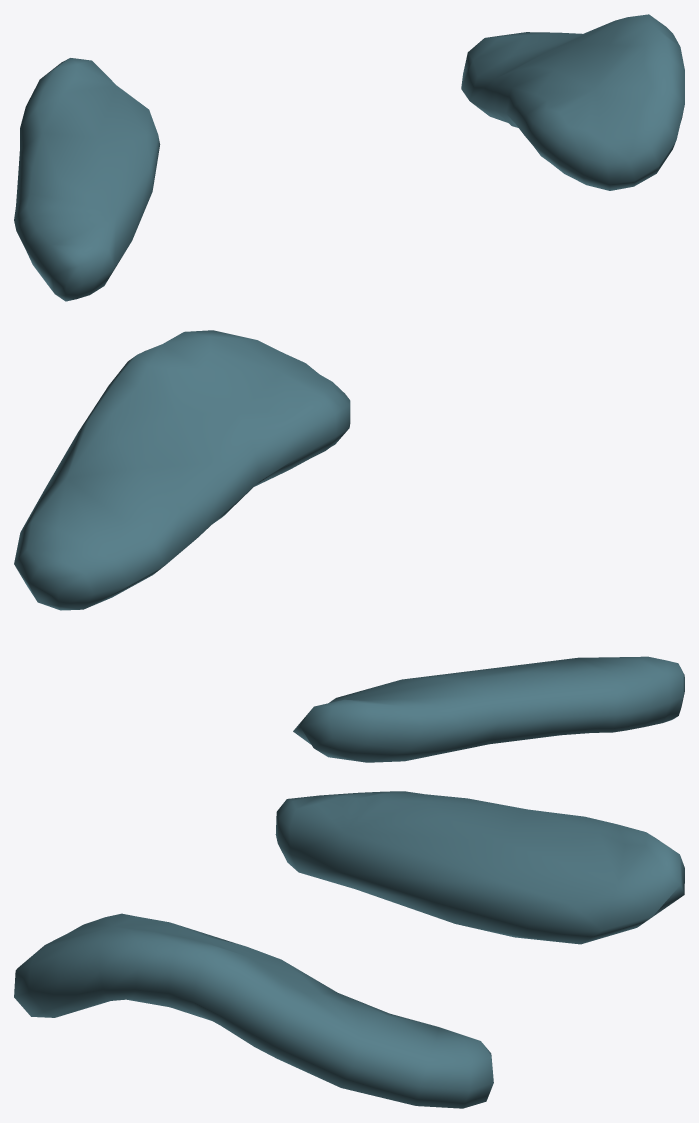
The model's file is Flexor_digitorum_brevis_5th_medial_phalanx_right.glb.
3 renders of one model, top to bottom at view 1: azimuth 30°, elevation 25°; view 2: azimuth 150°, elevation 25°; view 3: azimuth 270°, elevation 25°, orthographic. The views are drawn at different scales.
Visible parts, largest first — view 1: Flexor_digitorum_brevis_on_5th_medial_phalanx.r_Generated_Me; view 2: Flexor_digitorum_brevis_on_5th_medial_phalanx.r_Generated_Me; view 3: Flexor_digitorum_brevis_on_5th_medial_phalanx.r_Generated_Me.
Part boxes in pixels (x1=…): Flexor_digitorum_brevis_on_5th_medial_phalanx.r_Generated_Me: x1=14, y1=14, x2=684, y2=301; Flexor_digitorum_brevis_on_5th_medial_phalanx.r_Generated_Me: x1=14, y1=330, x2=684, y2=762; Flexor_digitorum_brevis_on_5th_medial_phalanx.r_Generated_Me: x1=14, y1=791, x2=684, y2=1108.
Size of the model in its own units: 0.0053 by 0.00163 by 0.00455.
